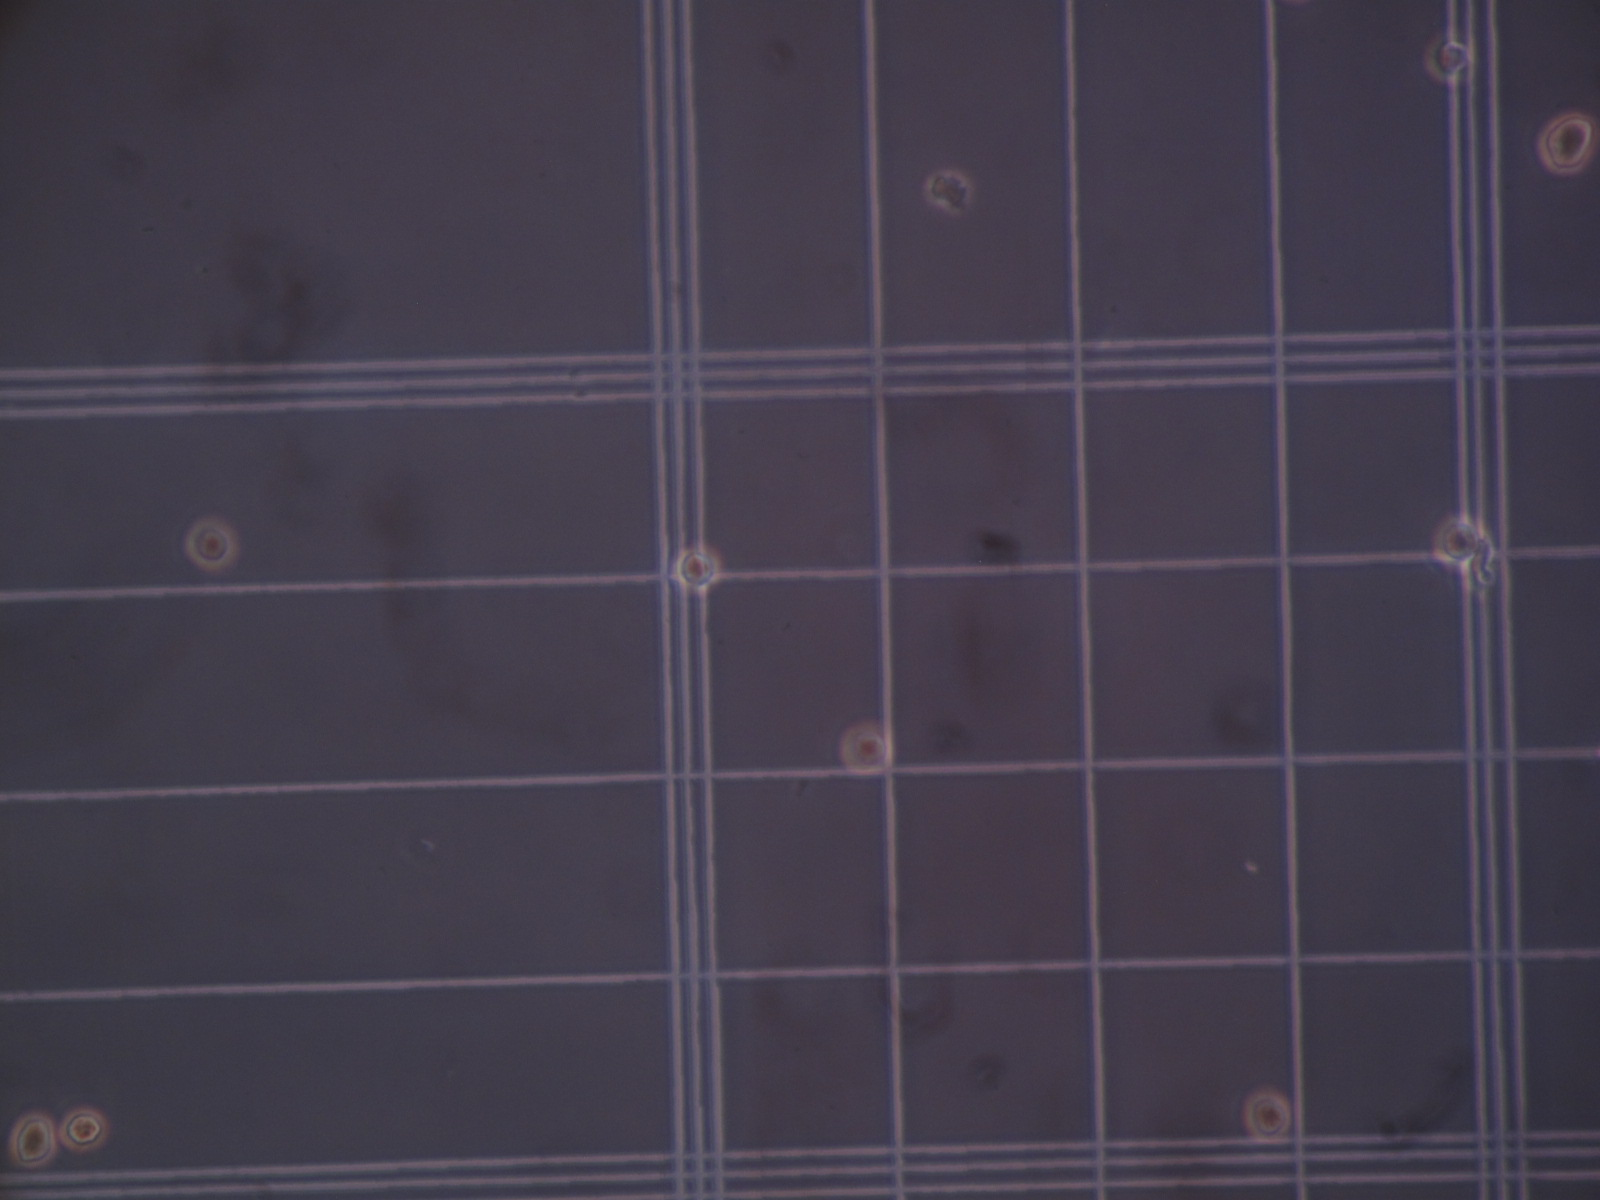hemo: (1536, 112, 1596, 176), (839, 721, 892, 776), (184, 517, 237, 570), (9, 1112, 57, 1168), (1432, 516, 1483, 568), (1243, 1089, 1291, 1145), (1424, 34, 1471, 84), (674, 546, 722, 592), (60, 1107, 110, 1152), (925, 169, 973, 214)
